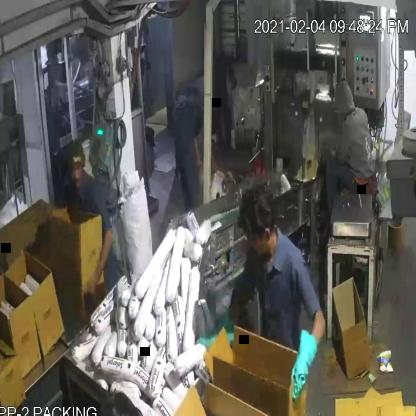glove: (190, 308, 250, 364), (286, 323, 320, 409)
no_glove: (79, 221, 118, 301)
